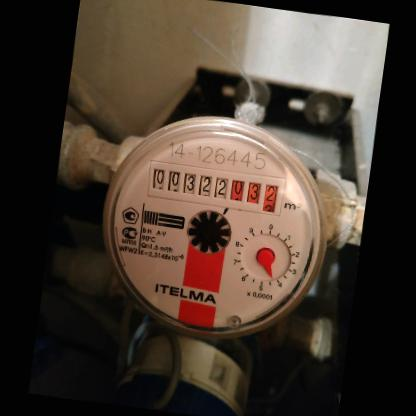digital_screen: (142, 158, 230, 210)
